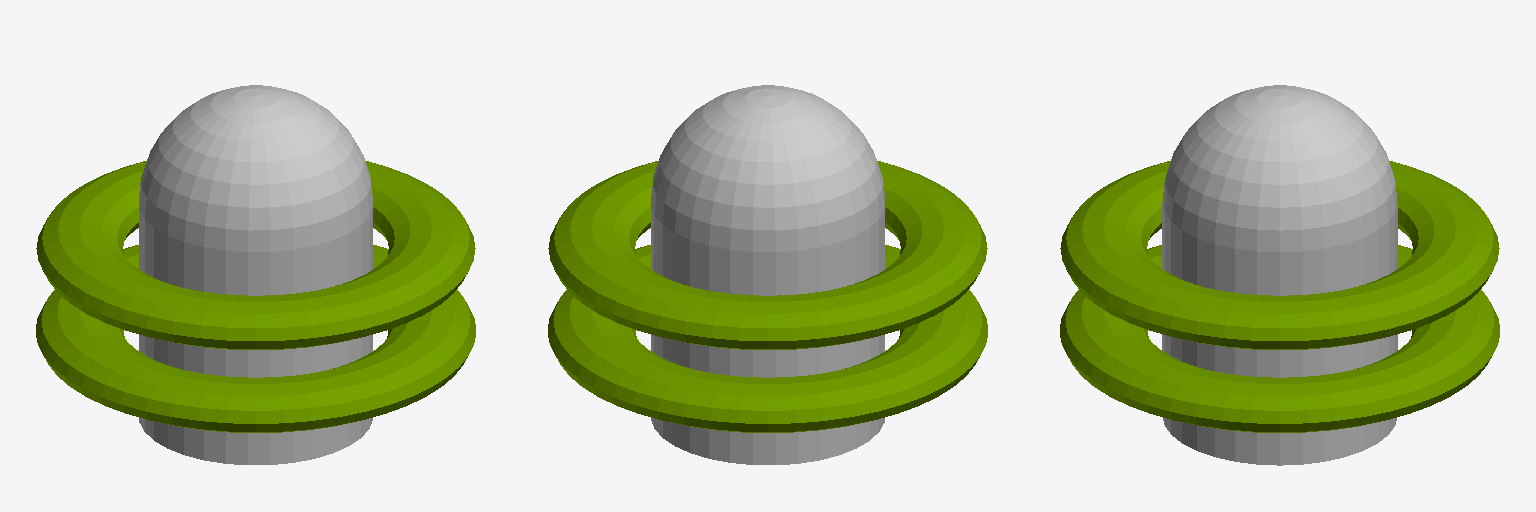
The model's file is Bumper.obj.
The picture shows the model from 3 angles: view 1: azimuth 30°, elevation 25°; view 2: azimuth 150°, elevation 25°; view 3: azimuth 270°, elevation 25°; orthographic projection.
Visible parts, largest first — view 1: Cylinder, Torus.001, Torus; view 2: Cylinder, Torus.001, Torus; view 3: Cylinder, Torus.001, Torus.
Boxes of the visible parts, x1,y1,x2,y2 form: Cylinder: [139, 85, 372, 464]; Torus.001: [36, 161, 475, 349]; Torus: [36, 245, 475, 432]; Cylinder: [651, 85, 884, 464]; Torus.001: [548, 161, 987, 349]; Torus: [548, 245, 987, 432]; Cylinder: [1162, 85, 1397, 465]; Torus.001: [1060, 161, 1499, 349]; Torus: [1060, 245, 1499, 432].
Bounding box in the file's own units: 3.75 × 3 × 3.75.